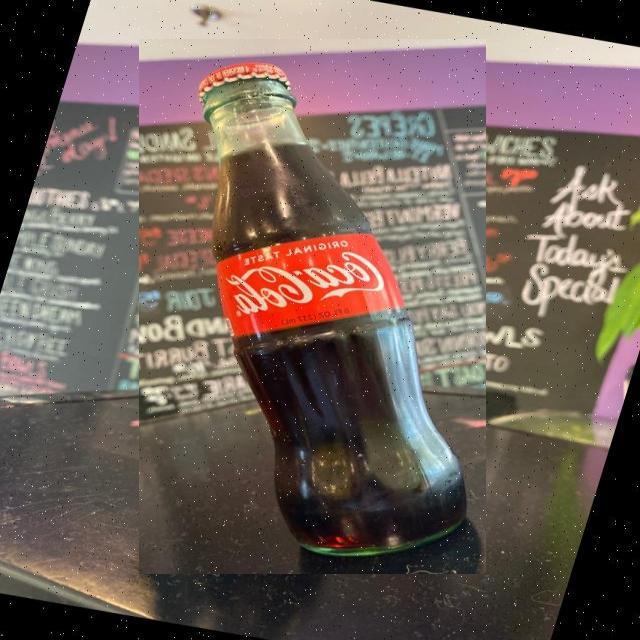coca-cola: (139, 39, 486, 574)
